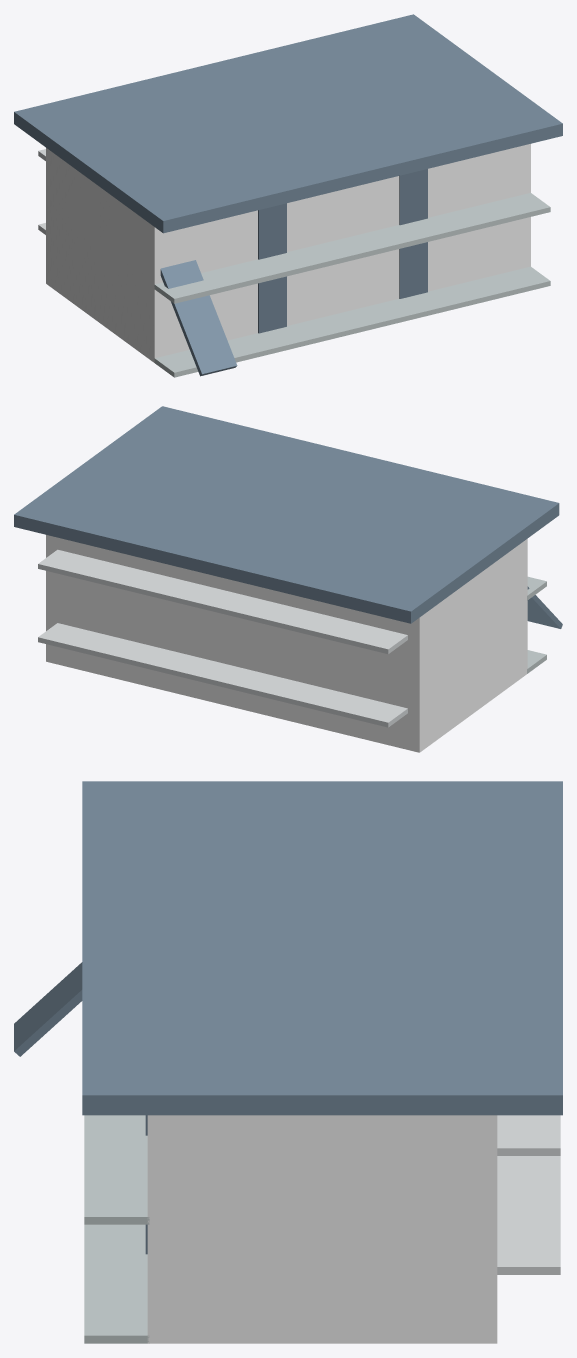
File: apartment.gltf
The picture shows the model from 3 angles, top to bottom: view 1: azimuth 30°, elevation 25°; view 2: azimuth 150°, elevation 25°; view 3: azimuth 270°, elevation 25°; orthographic projection. The views are drawn at different scales.
Size of the model in its own units: 170 by 65 by 126.
